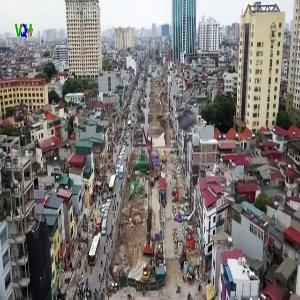drone: (157, 93, 218, 154)
